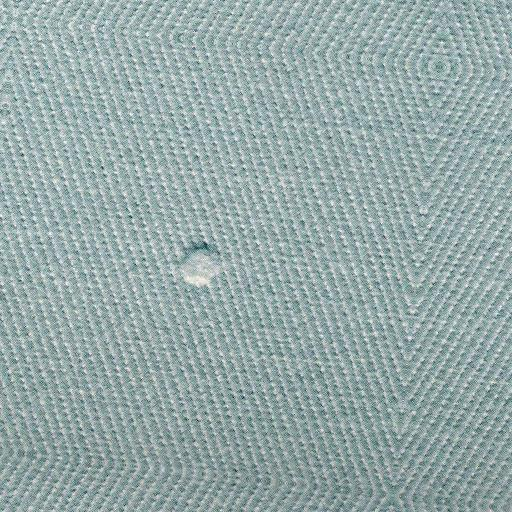knot: (167, 236, 235, 296)
